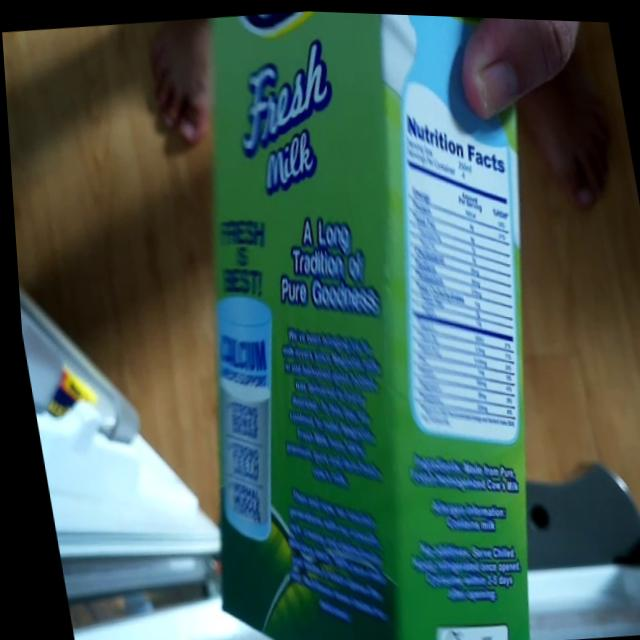milk: (118, 3, 616, 640)
